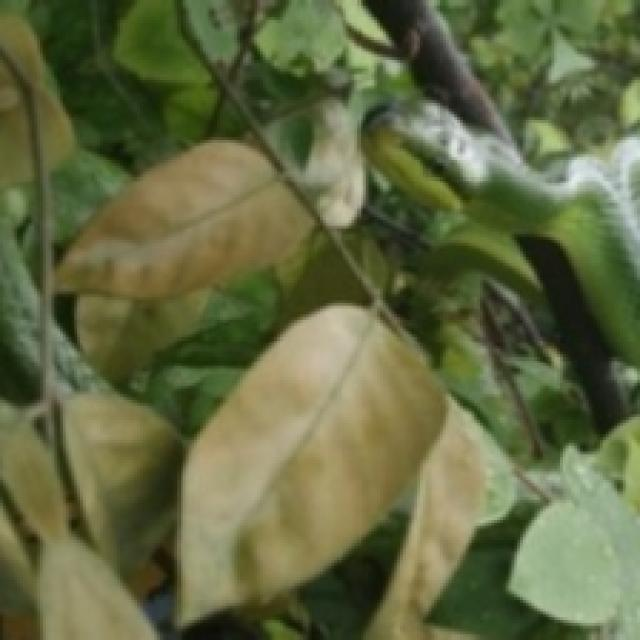red-tailed green ratsnake: (363, 103, 637, 429), (0, 222, 40, 403), (56, 325, 105, 390)
